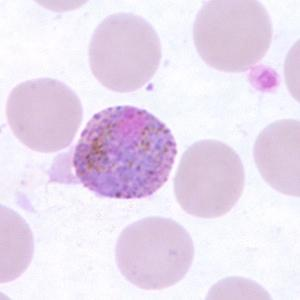Infected: (74, 104, 178, 199)
Uninfected: (87, 11, 162, 91), (191, 0, 271, 73), (115, 218, 194, 291), (7, 78, 83, 153), (175, 140, 246, 218)
